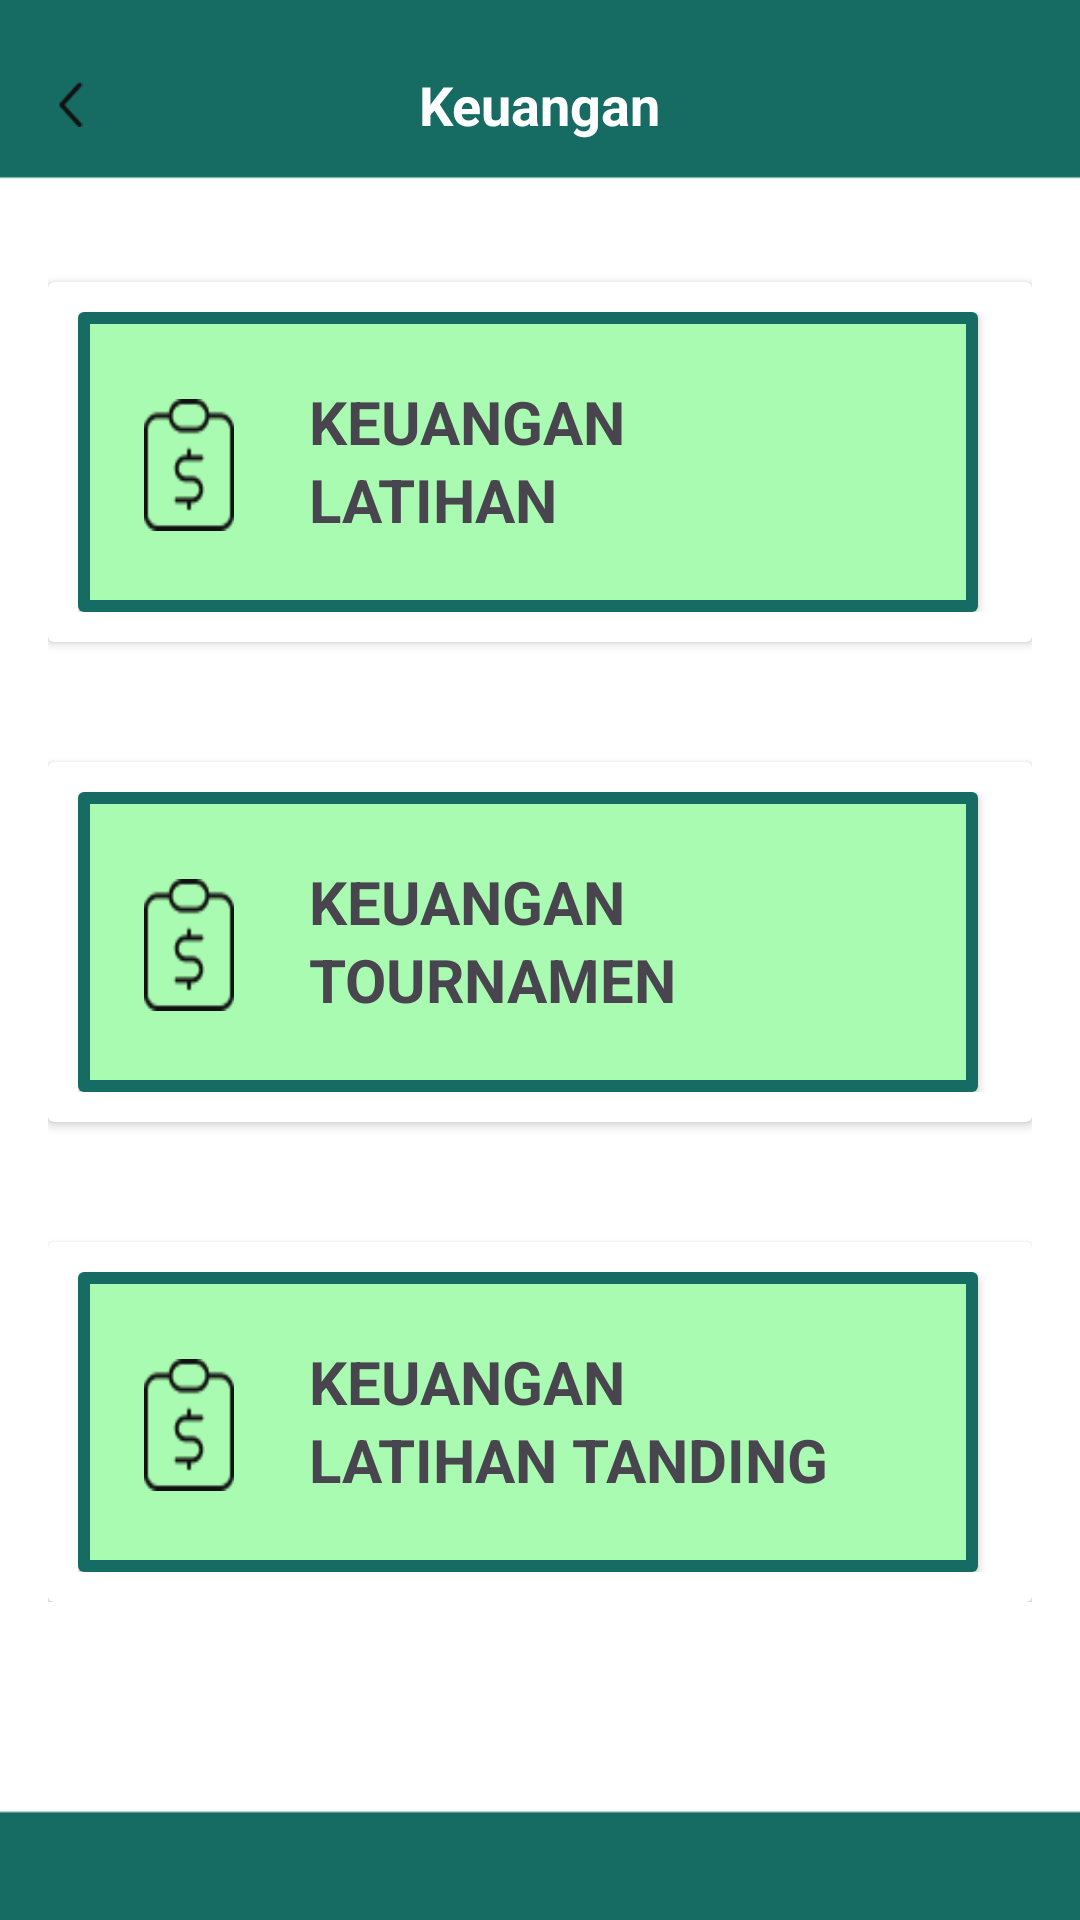

Screen size 1080px×1920px. Icon name, then its center in pixels as (x=x, y=y):
back: (x=71, y=104)
keu: (x=189, y=465), (x=189, y=945), (x=189, y=1425)
